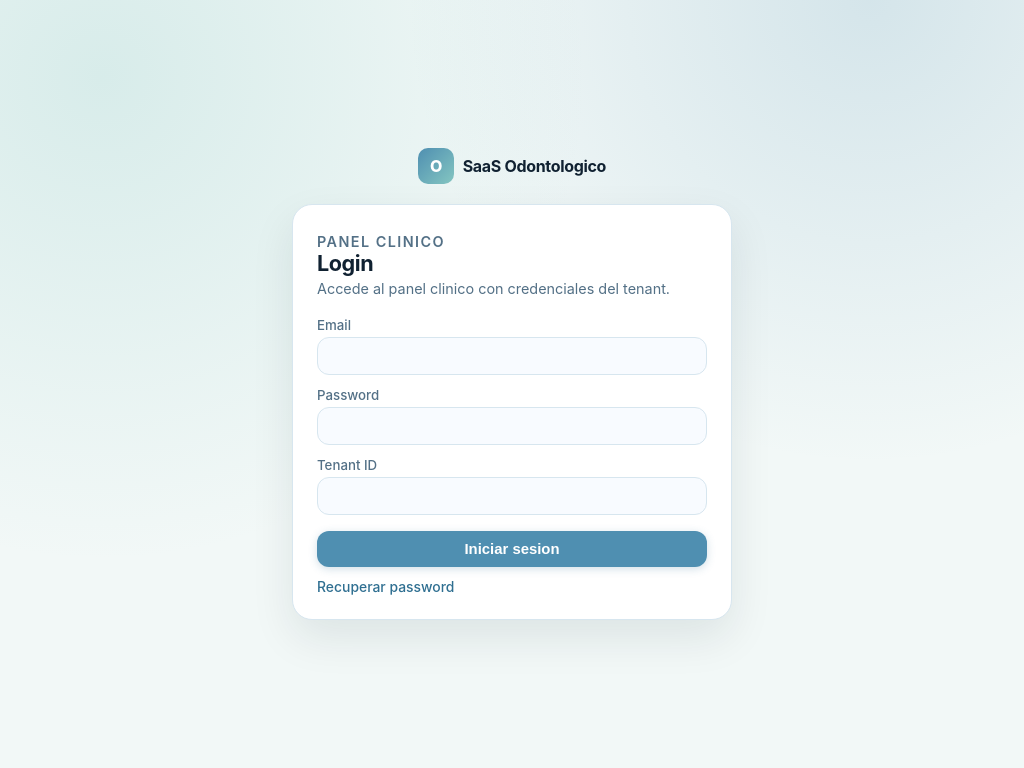
it: AppRouter › permite navegar entre pantallas del flujo auth por links
What coordinates should you click on to do the following:
click the link "Recuperar password"
I would click on:
 (386, 587)
Its box is top-left (317, 579), bottom-right (454, 595).
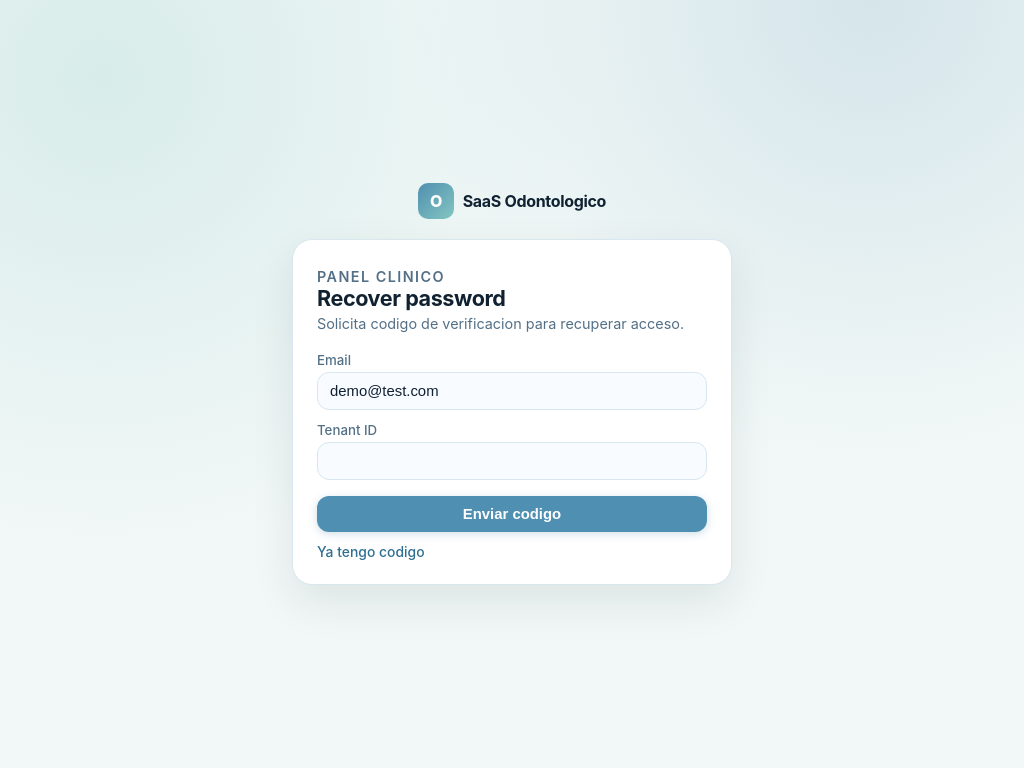
Expected: the button "Enviar codigo" is shown, top-left (317, 496), bottom-right (707, 532)
What coordinates should you click on to do the following:
click the link "Ya tengo codigo"
I would click on:
 (371, 552)
Its box is top-left (317, 544), bottom-right (425, 560).
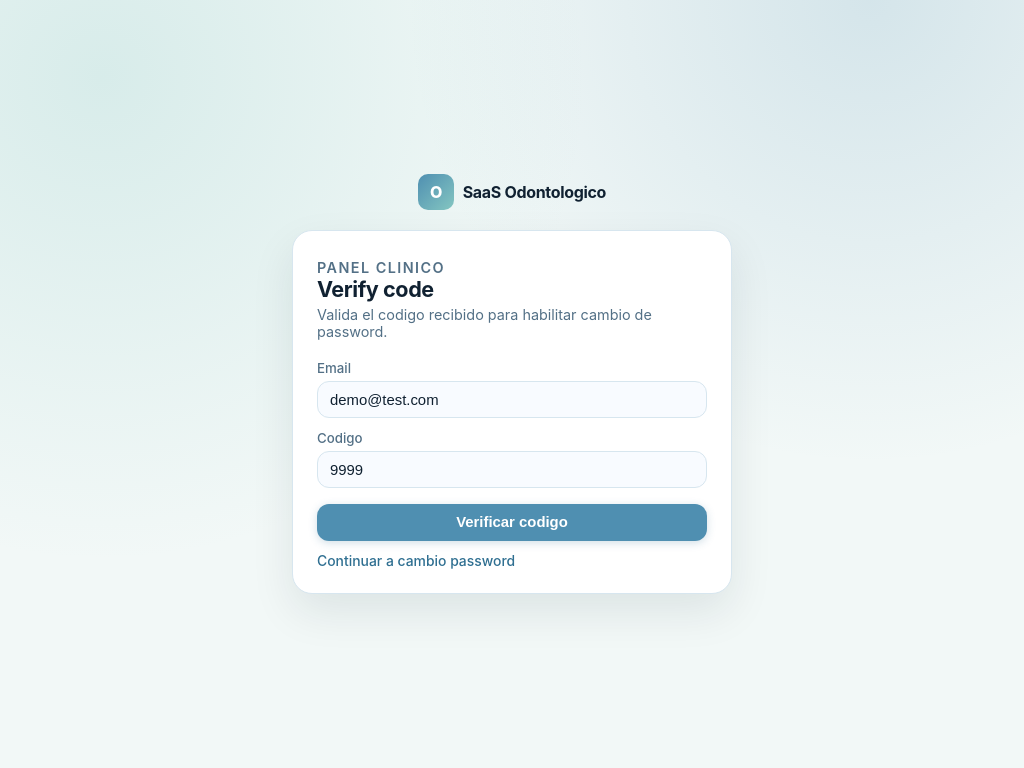
Expected: the button "Verificar codigo" is shown, top-left (317, 504), bottom-right (707, 541)
What coordinates should you click on to do the following:
click the link "Continuar a cambio password"
I would click on:
 (416, 561)
Its box is top-left (317, 553), bottom-right (515, 569).
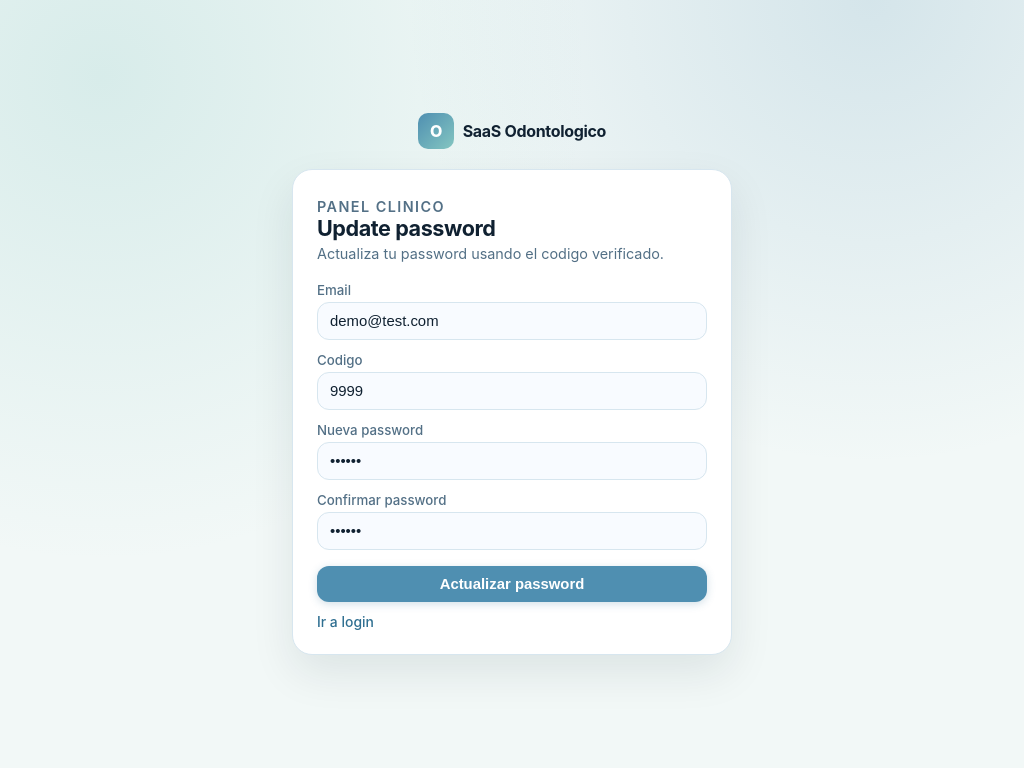
Expected: the button "Actualizar password" is shown, top-left (317, 566), bottom-right (707, 602)
What coordinates should you click on to do the following:
click the link "Ir a login"
I would click on:
 (345, 622)
Its box is top-left (317, 614), bottom-right (374, 630).
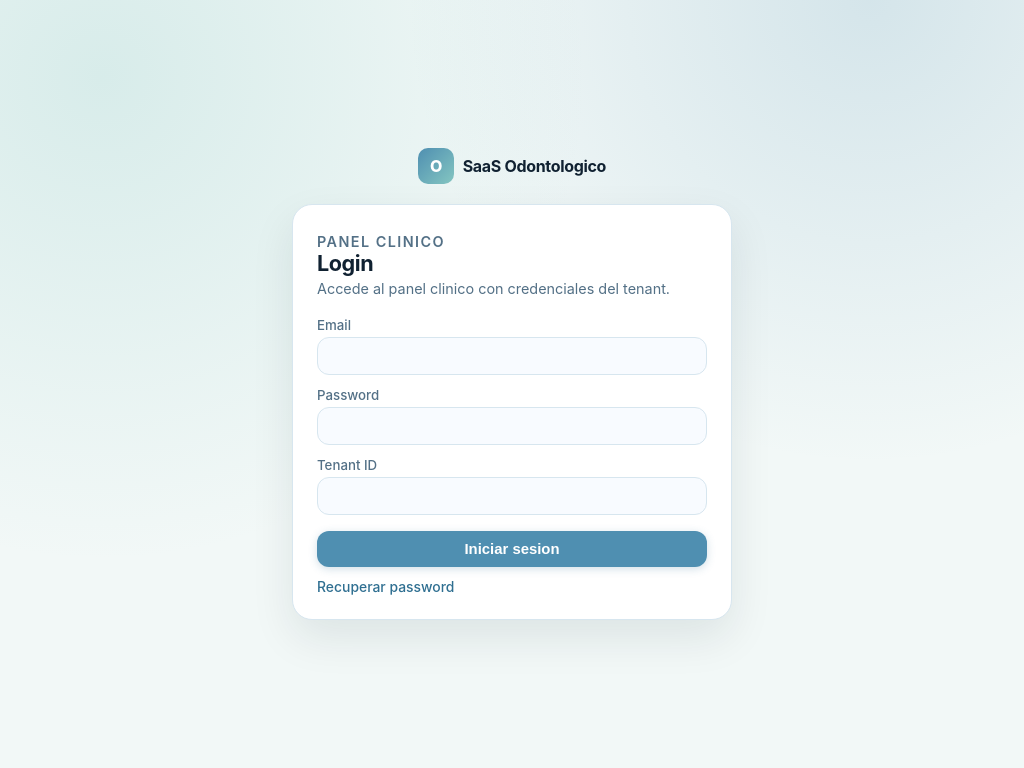
Expected: the button "Iniciar sesion" is shown, top-left (317, 531), bottom-right (707, 567)
